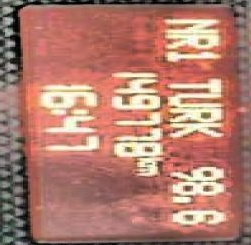-: (165, 194, 193, 204)
1: (162, 49, 223, 62), (104, 69, 160, 76), (33, 83, 96, 89)
4: (38, 114, 96, 131), (109, 77, 157, 93)
6: (167, 208, 226, 225), (35, 91, 96, 107)
7: (40, 134, 99, 149), (109, 126, 162, 139), (109, 111, 160, 124)
8: (109, 139, 162, 156), (165, 179, 223, 194)
9: (167, 163, 226, 179), (109, 93, 162, 109)
X: (162, 15, 218, 33), (165, 121, 226, 137), (165, 90, 223, 105), (160, 34, 221, 48), (162, 77, 221, 91), (165, 107, 223, 121), (132, 163, 157, 174), (43, 107, 88, 113), (132, 156, 160, 162)
